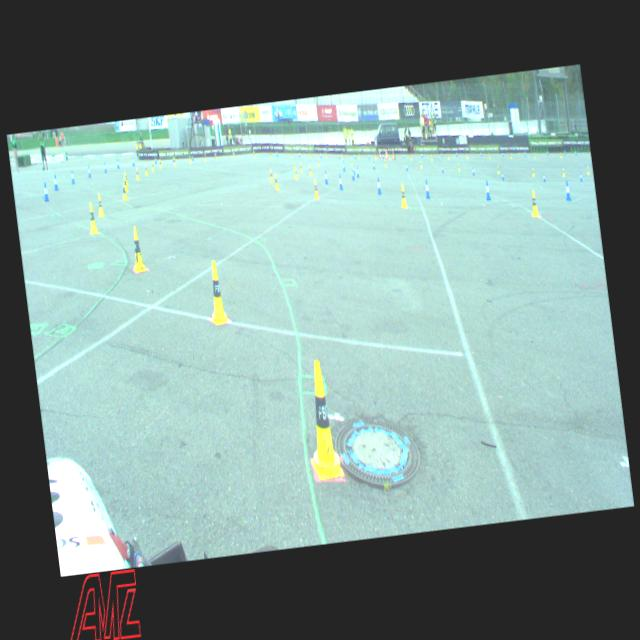blue_cone: (484, 180, 491, 199), (424, 178, 430, 198), (564, 180, 570, 200), (42, 182, 48, 200), (52, 173, 58, 190), (376, 177, 381, 194), (338, 173, 342, 190), (323, 170, 328, 183), (70, 170, 74, 182), (86, 166, 90, 177), (351, 168, 354, 180), (116, 158, 119, 168), (501, 170, 504, 180), (132, 157, 135, 166), (579, 172, 582, 181), (542, 172, 545, 181), (352, 165, 355, 174), (372, 160, 375, 168), (342, 162, 345, 170), (356, 166, 358, 178), (104, 162, 106, 172), (342, 160, 344, 169), (154, 156, 156, 164), (172, 154, 174, 162), (479, 150, 482, 155), (441, 165, 443, 172), (406, 163, 408, 170), (214, 151, 216, 158), (472, 167, 474, 174), (191, 153, 193, 160), (276, 150, 278, 156), (320, 152, 322, 158), (382, 152, 384, 158), (524, 150, 526, 156), (440, 150, 442, 156), (402, 152, 404, 158), (338, 153, 340, 159), (501, 151, 503, 156), (420, 152, 422, 157), (455, 151, 457, 156), (546, 150, 548, 154), (233, 152, 235, 156), (354, 154, 356, 158), (368, 154, 370, 158), (575, 150, 576, 154), (564, 150, 565, 154), (298, 152, 299, 156)
large_orange_cone: (378, 150, 381, 158), (385, 149, 387, 159), (392, 150, 394, 160), (386, 149, 388, 158)
yellow_cone: (299, 359, 344, 480), (203, 260, 230, 324), (129, 226, 146, 271), (86, 202, 98, 233), (529, 190, 538, 216), (399, 184, 407, 207), (96, 194, 104, 216), (120, 181, 127, 200), (312, 179, 318, 198), (274, 173, 278, 189), (124, 175, 128, 191), (124, 172, 128, 184), (144, 163, 148, 174), (135, 167, 139, 178), (308, 164, 312, 174), (294, 168, 298, 178), (188, 154, 192, 163), (158, 159, 161, 168), (299, 162, 302, 171), (270, 169, 272, 181), (586, 166, 589, 174), (419, 160, 422, 168), (151, 162, 154, 170), (173, 157, 176, 165), (204, 154, 207, 161), (214, 152, 217, 159), (509, 152, 512, 158), (388, 154, 391, 160), (562, 168, 564, 176), (293, 161, 295, 169), (317, 158, 319, 166), (532, 168, 534, 175), (458, 163, 460, 170), (497, 165, 499, 172), (384, 160, 386, 167), (350, 158, 352, 165), (488, 152, 490, 158), (447, 152, 449, 158), (534, 152, 536, 158), (253, 152, 255, 158), (340, 152, 342, 158), (309, 152, 311, 158), (290, 152, 292, 158), (559, 152, 561, 158), (466, 152, 468, 158), (374, 152, 376, 158), (232, 152, 234, 158), (430, 154, 432, 160), (358, 152, 360, 158), (410, 154, 412, 160), (324, 152, 326, 158), (270, 151, 272, 156), (590, 153, 590, 158)
